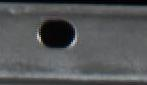holes: (37, 18, 77, 49)
